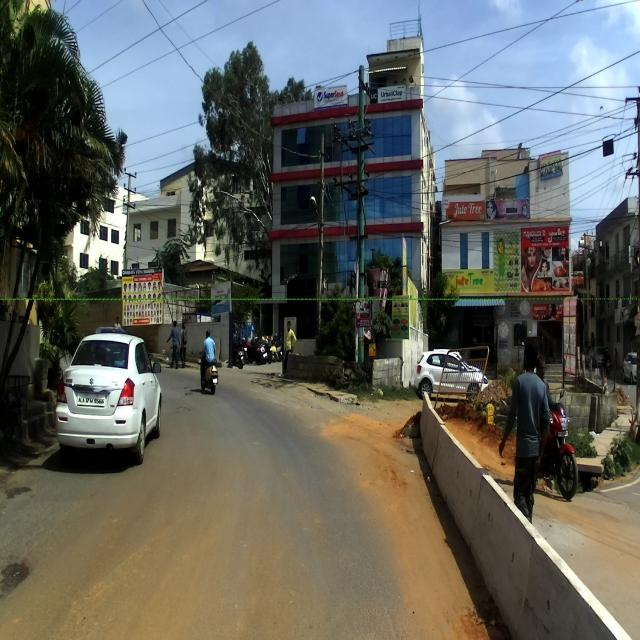Car_Maruti-Suzuki: (53, 332, 163, 463)
Car_Volkswagen: (412, 348, 488, 400)
motorcycle_TVS: (523, 386, 577, 501)
